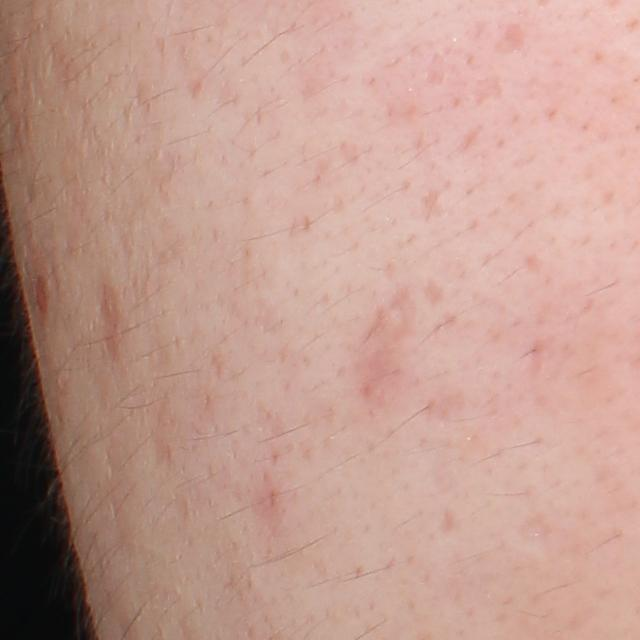atrophic_scar: (352, 288, 417, 402), (423, 381, 471, 421), (492, 23, 532, 58), (469, 73, 505, 108), (418, 179, 446, 224), (515, 512, 551, 542), (435, 504, 458, 535), (425, 276, 447, 306)
